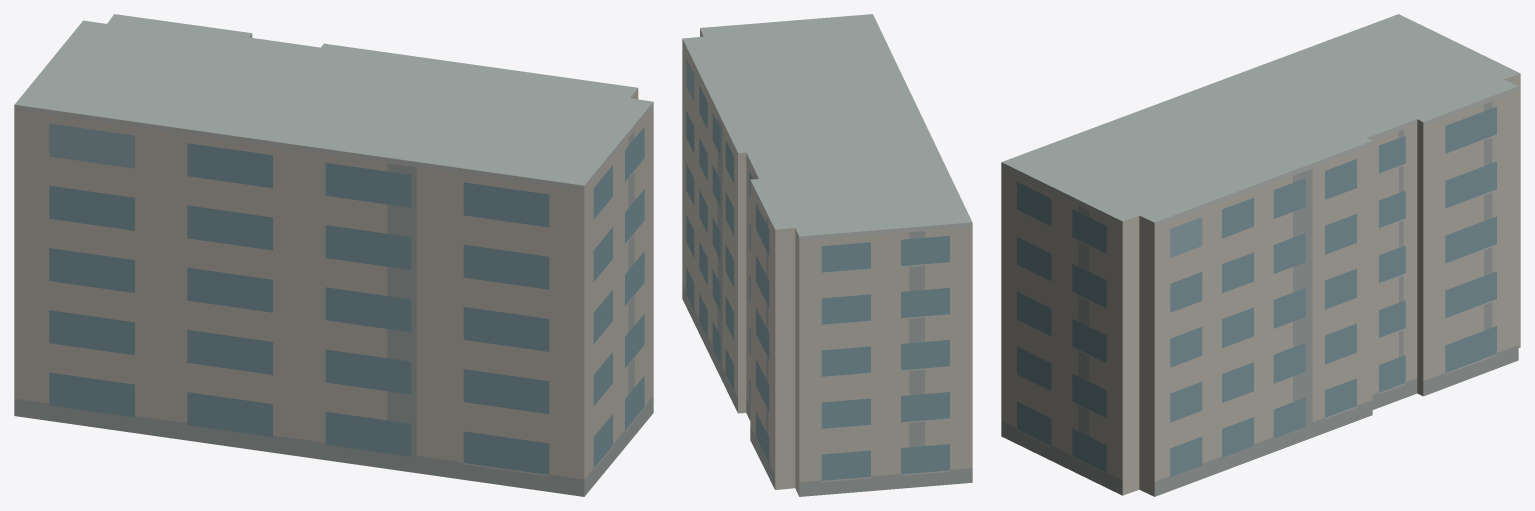
The model's file is survey-upis-32626361.glb.
3 views of the same model, side by side, from view 1: azimuth 30°, elevation 25°; view 2: azimuth 150°, elevation 25°; view 3: azimuth 270°, elevation 25° (orthographic). The views are drawn at different scales.
Visible parts, largest first — view 1: survey-upis-32626361.tmp; view 2: survey-upis-32626361.tmp; view 3: survey-upis-32626361.tmp.
Boxes of the visible parts, x1=… form: survey-upis-32626361.tmp: x1=14, y1=14, x2=653, y2=496; survey-upis-32626361.tmp: x1=682, y1=14, x2=972, y2=496; survey-upis-32626361.tmp: x1=1001, y1=14, x2=1520, y2=496.
Size of the model in its own units: 21.71 by 13.3 by 22.83.
